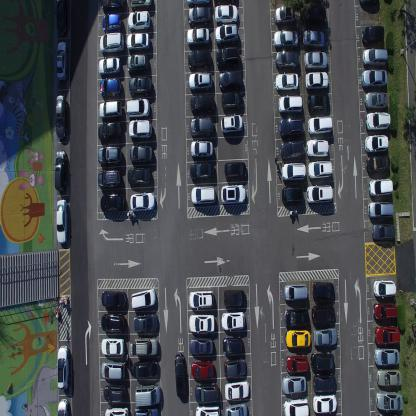car: (305, 183, 333, 205), (375, 389, 403, 411), (56, 343, 69, 390), (99, 30, 124, 54), (130, 286, 156, 309), (135, 383, 161, 406), (56, 198, 69, 243), (187, 47, 212, 70), (190, 184, 216, 206), (224, 379, 250, 401), (100, 358, 126, 380), (365, 110, 391, 132), (189, 92, 215, 114), (373, 325, 400, 346), (55, 93, 67, 140), (360, 68, 388, 88), (311, 302, 335, 325), (368, 176, 393, 198), (188, 70, 213, 92), (220, 183, 246, 204), (188, 289, 214, 310), (130, 191, 156, 212), (362, 47, 388, 68), (307, 115, 333, 136), (174, 352, 186, 397), (190, 116, 214, 138), (314, 326, 338, 348), (360, 25, 384, 47), (303, 4, 327, 26), (280, 138, 304, 160), (278, 93, 302, 115), (214, 24, 238, 46), (128, 118, 152, 140), (126, 96, 150, 118), (98, 120, 122, 142), (54, 148, 66, 192), (126, 31, 150, 53), (310, 352, 335, 373), (365, 154, 390, 175), (279, 117, 304, 138), (218, 69, 243, 90), (98, 99, 123, 120), (306, 160, 332, 180), (100, 193, 126, 213), (281, 374, 307, 394), (133, 359, 159, 379), (376, 368, 402, 388), (101, 288, 127, 308), (274, 50, 300, 70), (284, 329, 311, 348), (188, 314, 215, 333), (220, 113, 243, 135), (99, 76, 122, 98), (100, 312, 124, 333), (306, 91, 330, 112), (215, 47, 239, 68), (56, 40, 68, 82), (190, 160, 215, 180), (221, 310, 246, 330), (133, 312, 158, 332), (312, 392, 337, 412), (194, 383, 219, 403), (363, 90, 388, 110), (280, 162, 306, 181), (373, 347, 399, 366), (188, 336, 214, 355), (368, 200, 394, 219), (103, 383, 126, 404), (372, 221, 395, 242), (98, 169, 122, 189), (313, 372, 337, 392), (134, 336, 158, 356), (284, 306, 308, 326), (302, 28, 326, 48), (186, 27, 210, 47), (127, 166, 151, 186), (98, 146, 122, 166), (127, 11, 151, 31), (372, 302, 397, 321), (364, 133, 389, 152), (283, 397, 309, 415), (224, 160, 247, 180), (224, 357, 247, 377), (275, 71, 298, 91), (188, 7, 211, 27), (221, 90, 244, 110), (129, 143, 152, 163), (128, 74, 151, 94), (98, 56, 121, 76), (284, 283, 308, 302), (305, 71, 329, 90), (274, 29, 298, 48), (214, 5, 238, 24), (274, 5, 296, 25), (280, 185, 303, 204), (286, 354, 309, 373), (373, 278, 396, 297), (304, 51, 327, 70), (306, 138, 329, 157), (190, 140, 214, 158), (190, 360, 214, 378), (126, 54, 150, 72), (312, 281, 334, 300), (223, 289, 246, 307), (100, 338, 124, 355), (102, 12, 122, 31), (222, 336, 243, 354), (225, 402, 248, 416), (195, 403, 220, 415), (128, 0, 152, 12), (101, 0, 125, 11), (134, 405, 160, 415), (104, 405, 129, 415), (56, 397, 69, 415), (186, 0, 209, 8)
